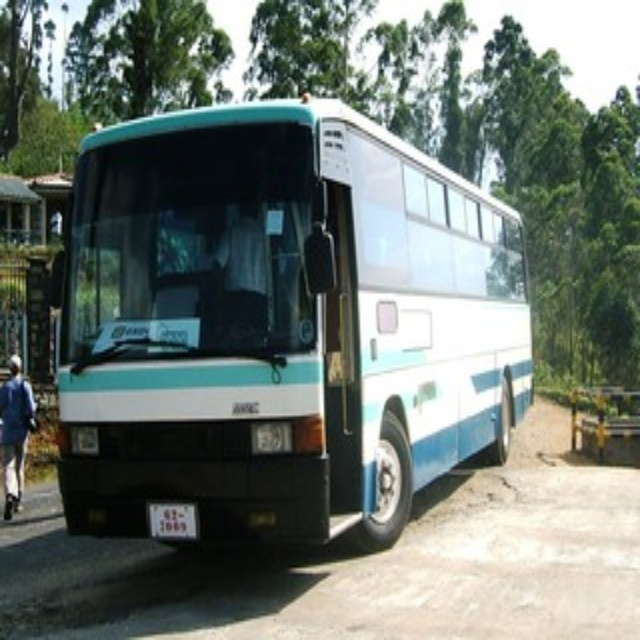Bus: (48, 93, 536, 555)
